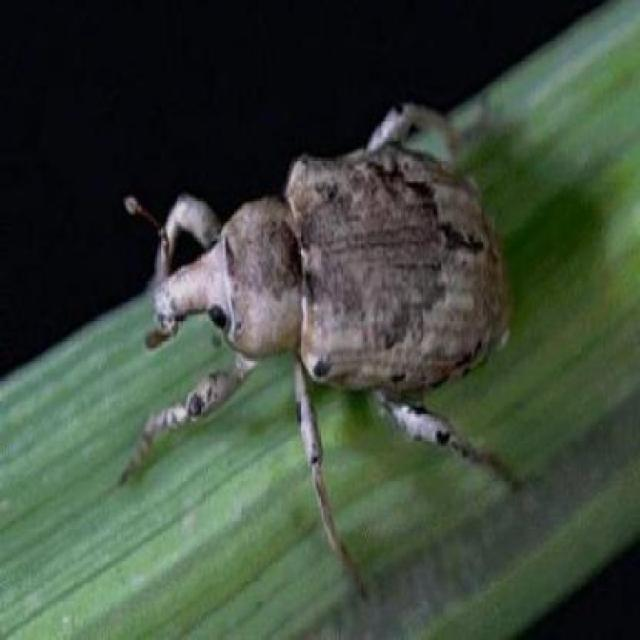rice-bug: (115, 85, 538, 597)
